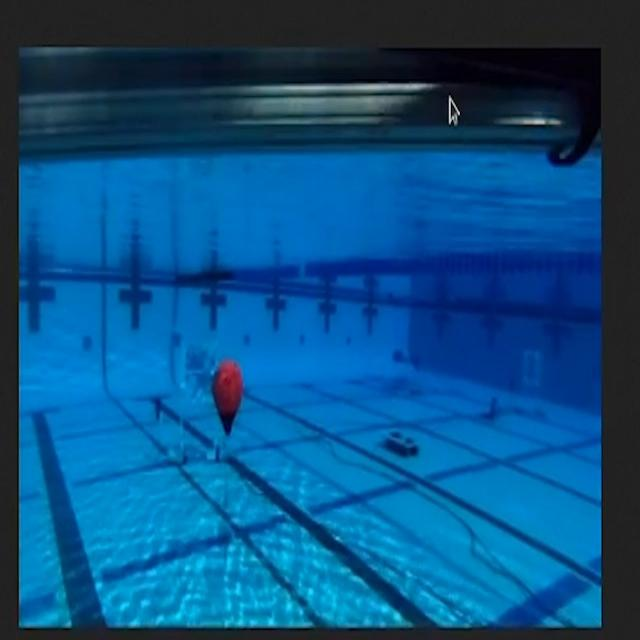Buoy: (209, 361, 249, 436)
